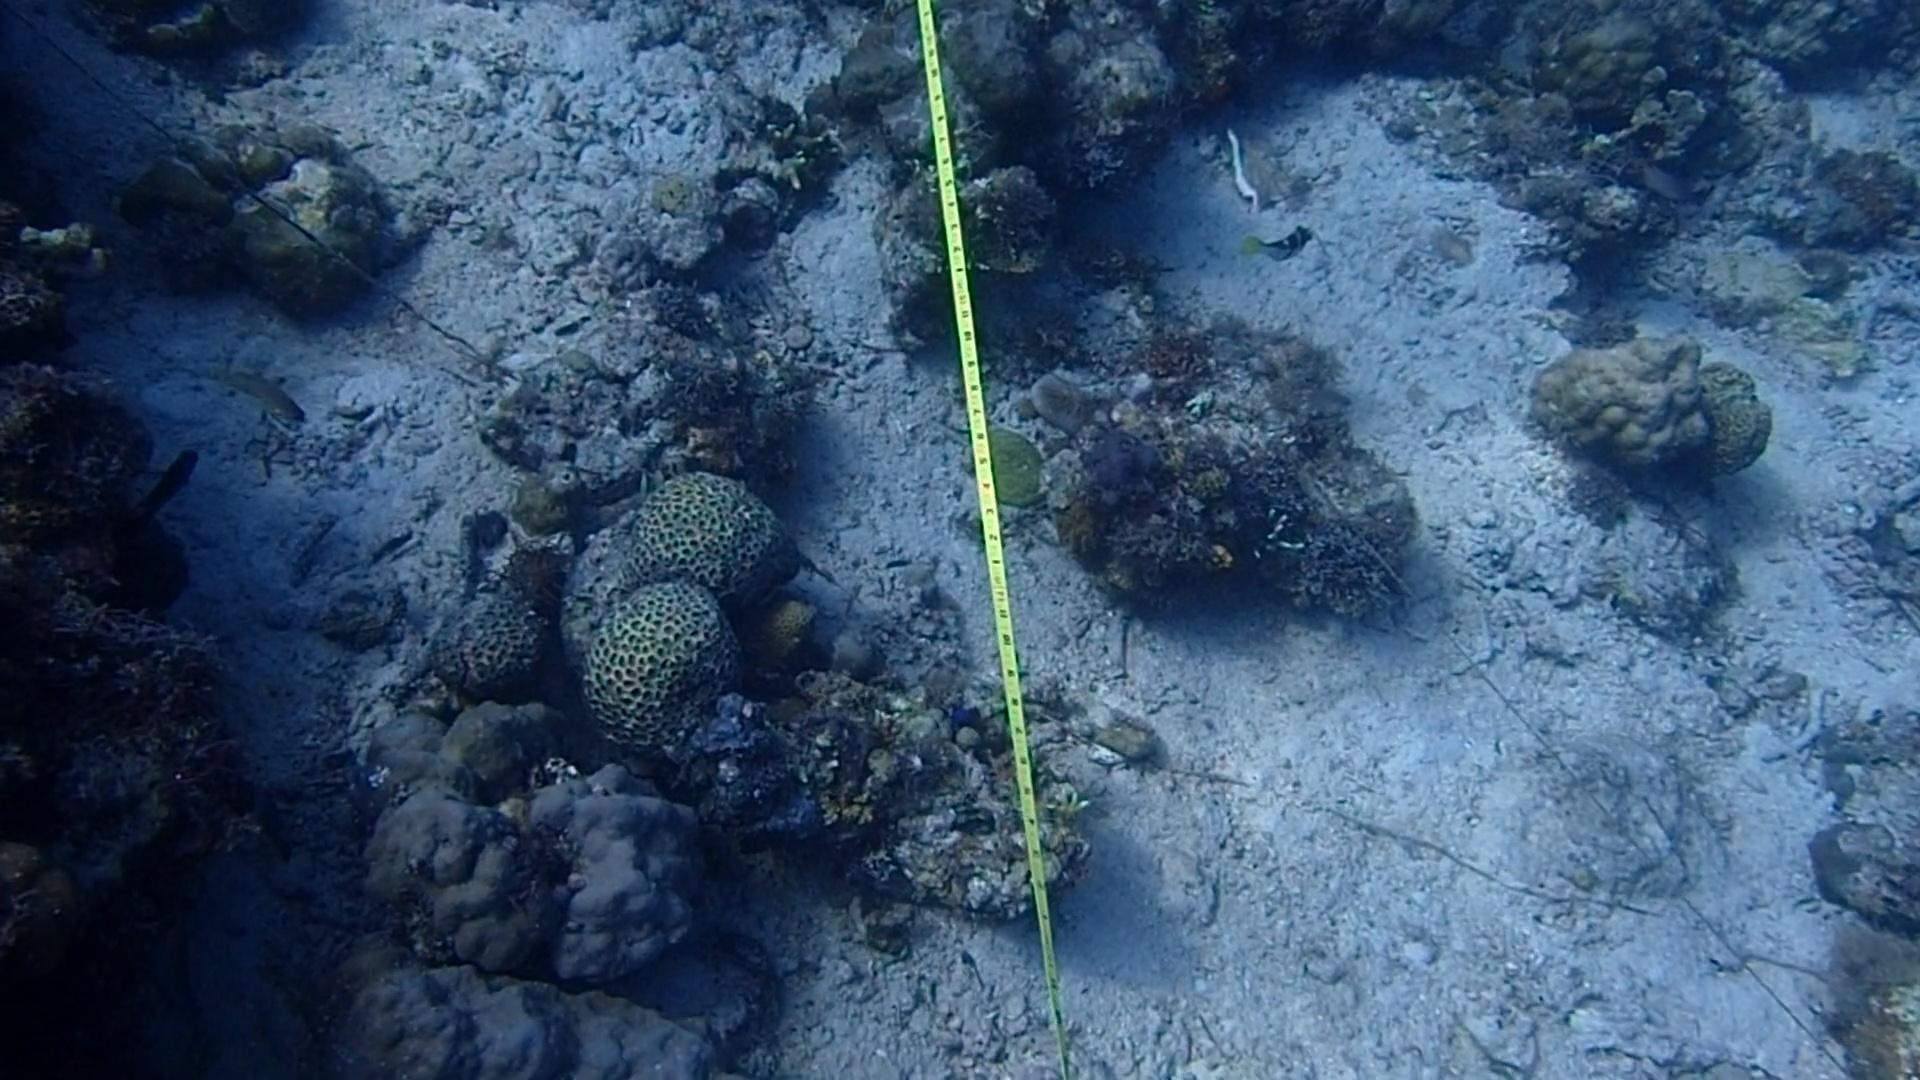Striped Fish: (1244, 228, 1327, 278)
